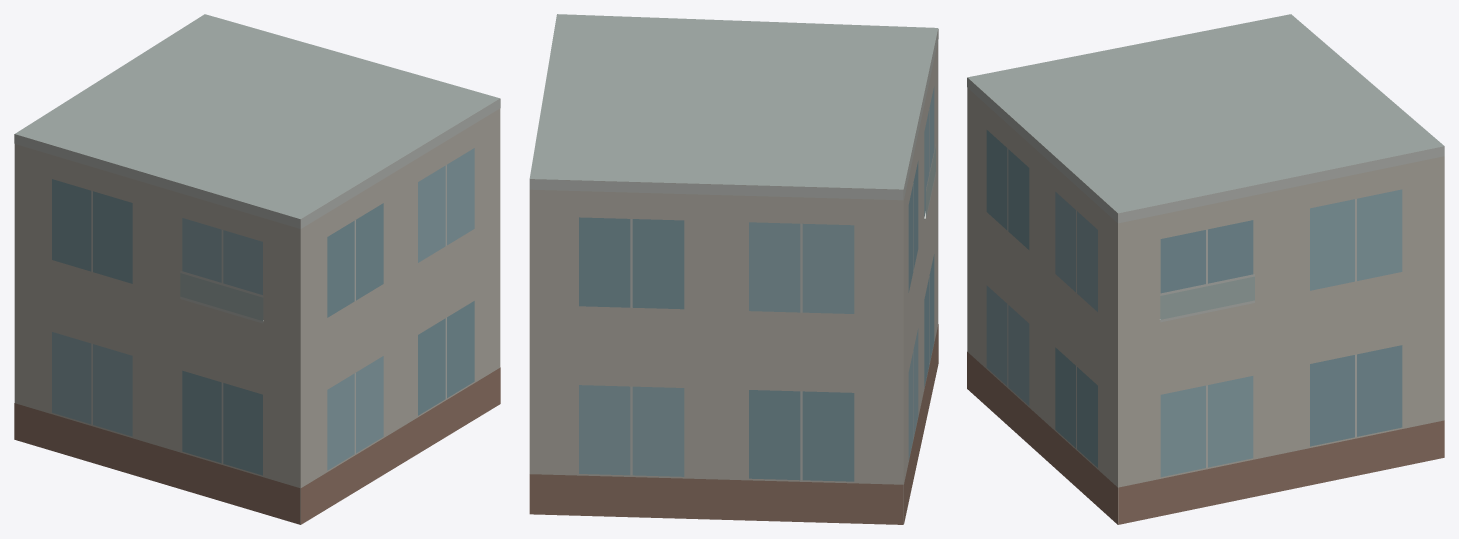
The model's file is survey-upis-32590406.glb.
3 renders of one model, left to right at view 1: azimuth 30°, elevation 25°; view 2: azimuth 150°, elevation 25°; view 3: azimuth 270°, elevation 25°, orthographic. The views are drawn at different scales.
Parts seen in each view (by area): view 1: survey-upis-32590406.tmp; view 2: survey-upis-32590406.tmp; view 3: survey-upis-32590406.tmp.
Boxes of the visible parts, x1,y1,x2,y2 form: survey-upis-32590406.tmp: (14,14,500,524); survey-upis-32590406.tmp: (529,14,938,524); survey-upis-32590406.tmp: (967,14,1444,524).
Size of the model in its own units: 10.45 by 7.6 by 10.57.
